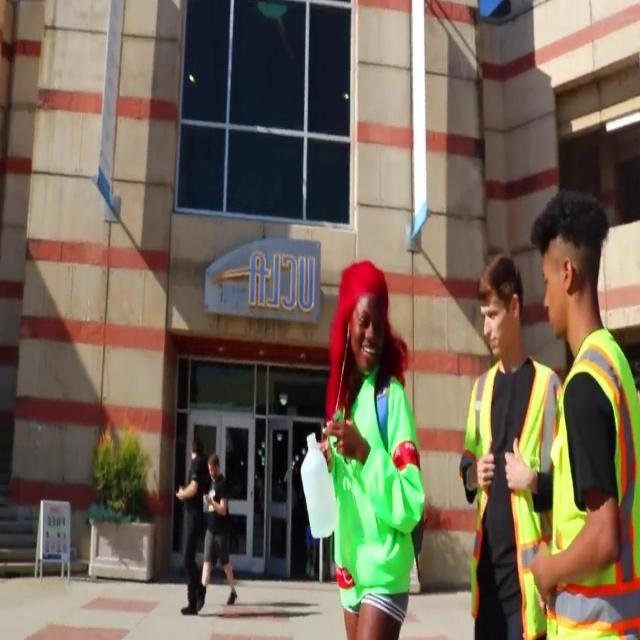Reflective-Jacket: (453, 347, 562, 639), (541, 326, 640, 638)
